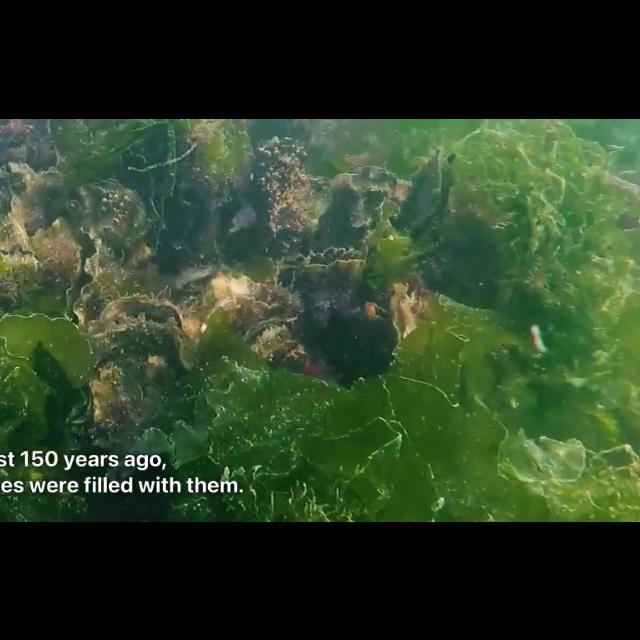Oyster-Closed: (318, 160, 414, 246), (70, 176, 152, 276), (246, 132, 314, 244)
Oyster-Open: (91, 287, 190, 417), (192, 266, 302, 338), (11, 165, 79, 277), (65, 222, 129, 316), (399, 146, 459, 242), (274, 240, 366, 288), (240, 312, 304, 364), (0, 215, 40, 267), (387, 277, 417, 335), (354, 299, 388, 329)
